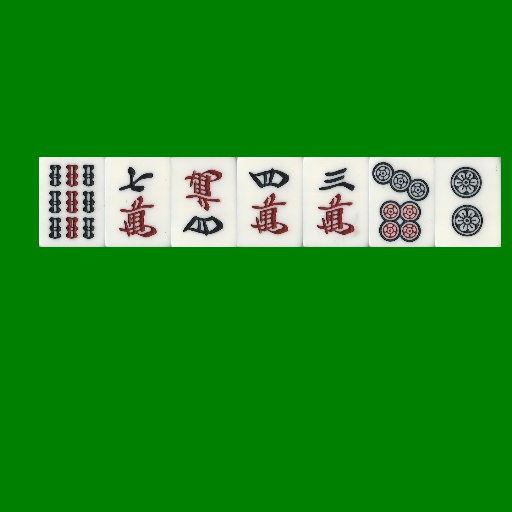2p: (435, 157, 501, 247)
3m: (303, 157, 369, 247)
4m: (171, 157, 237, 247), (237, 157, 303, 247)
7m: (105, 157, 171, 247)
7p: (369, 157, 435, 247)
9s: (39, 157, 105, 247)
